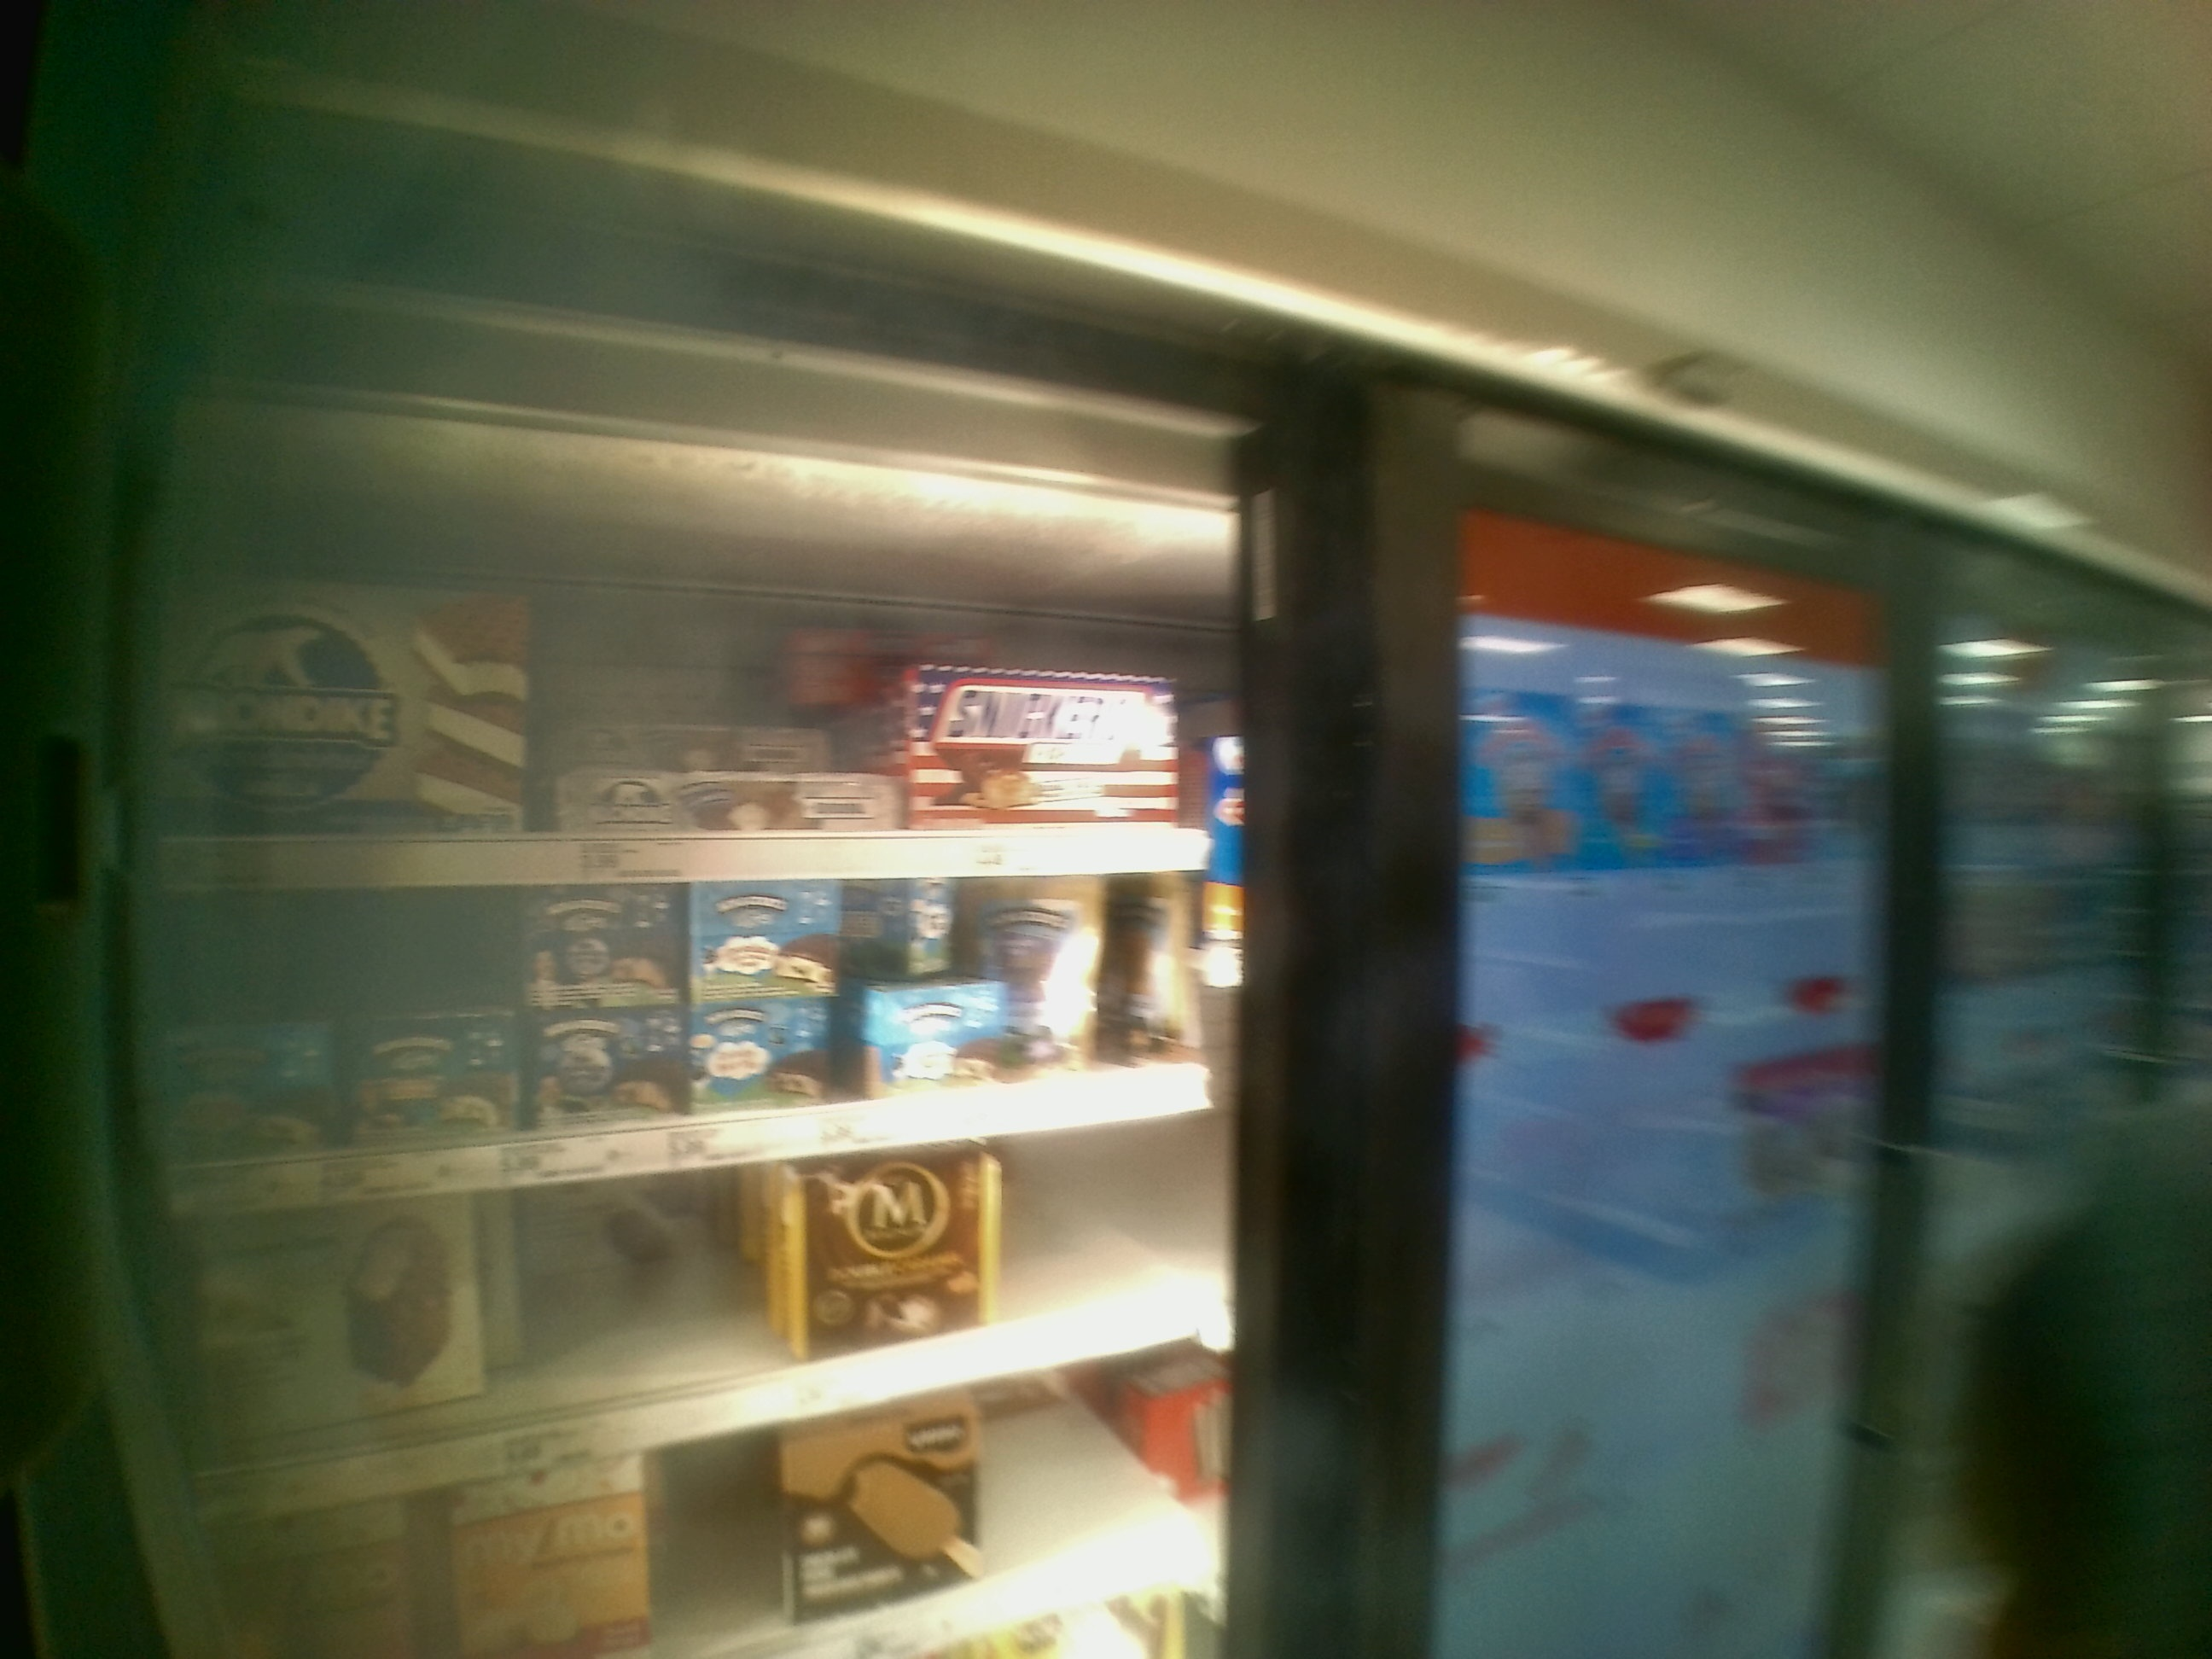shelf: (136, 518, 1230, 882), (125, 884, 1233, 1215)
